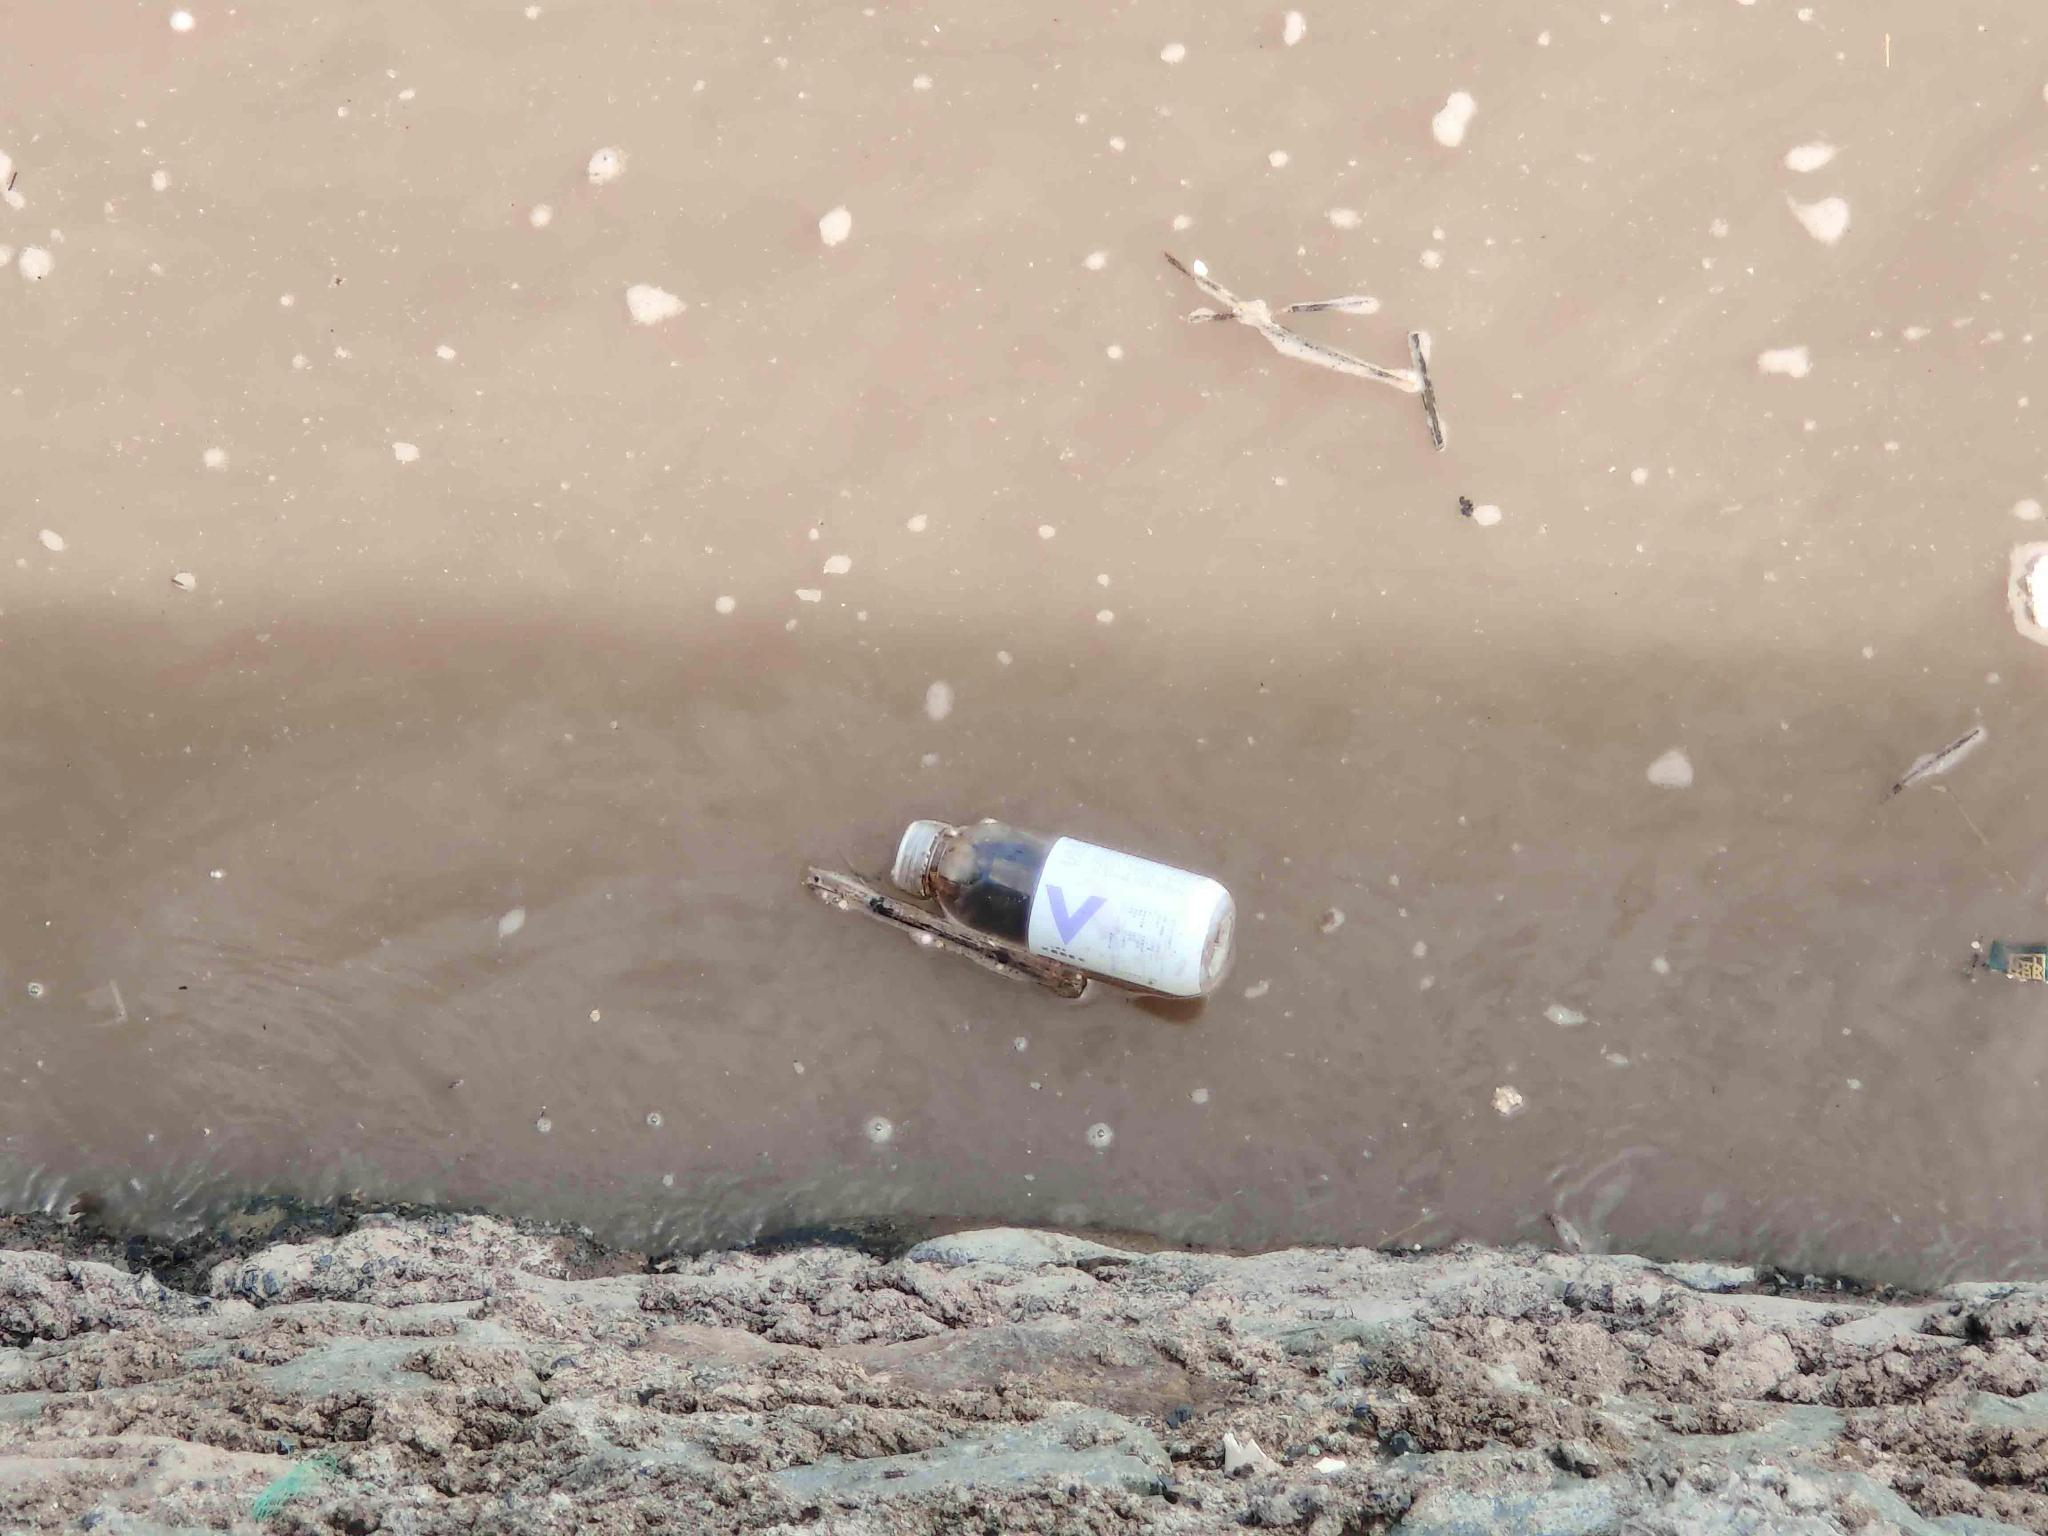Plastic: (892, 815, 1238, 1004)
